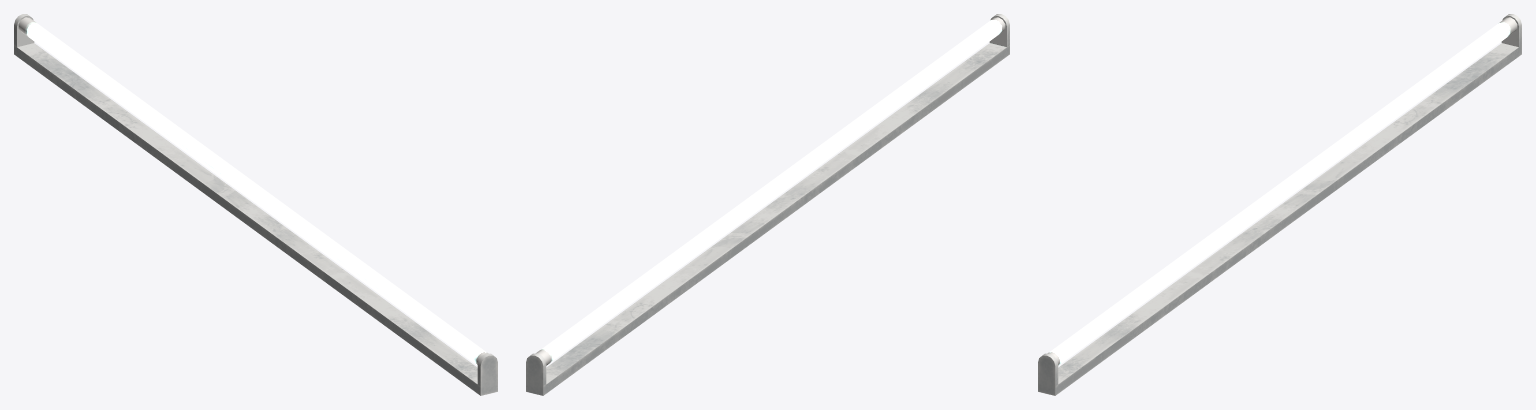
File: fluorescent_lamp.glb
3 renders of one model, left to right at view 1: azimuth 30°, elevation 25°; view 2: azimuth 150°, elevation 25°; view 3: azimuth 330°, elevation 25°, orthographic.
Visible parts, largest first — view 1: lum_lamp; view 2: lum_lamp; view 3: lum_lamp.
Part boxes in pixels (x1,y1,x2,y2): lum_lamp: (14,14,497,395); lum_lamp: (526,14,1009,395); lum_lamp: (1038,14,1521,395).
Bounding box in the file's own units: 2.38 × 5.05 × 111.
Materials: 1 (1 with a texture image).
